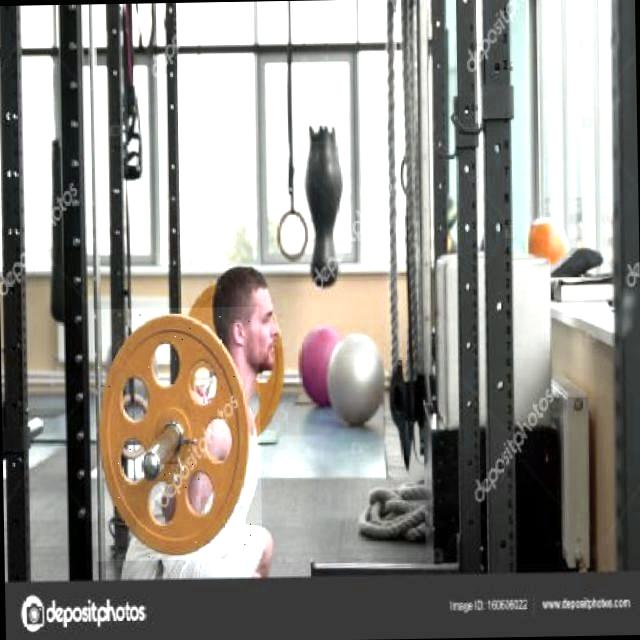barbell: (93, 307, 263, 562)
